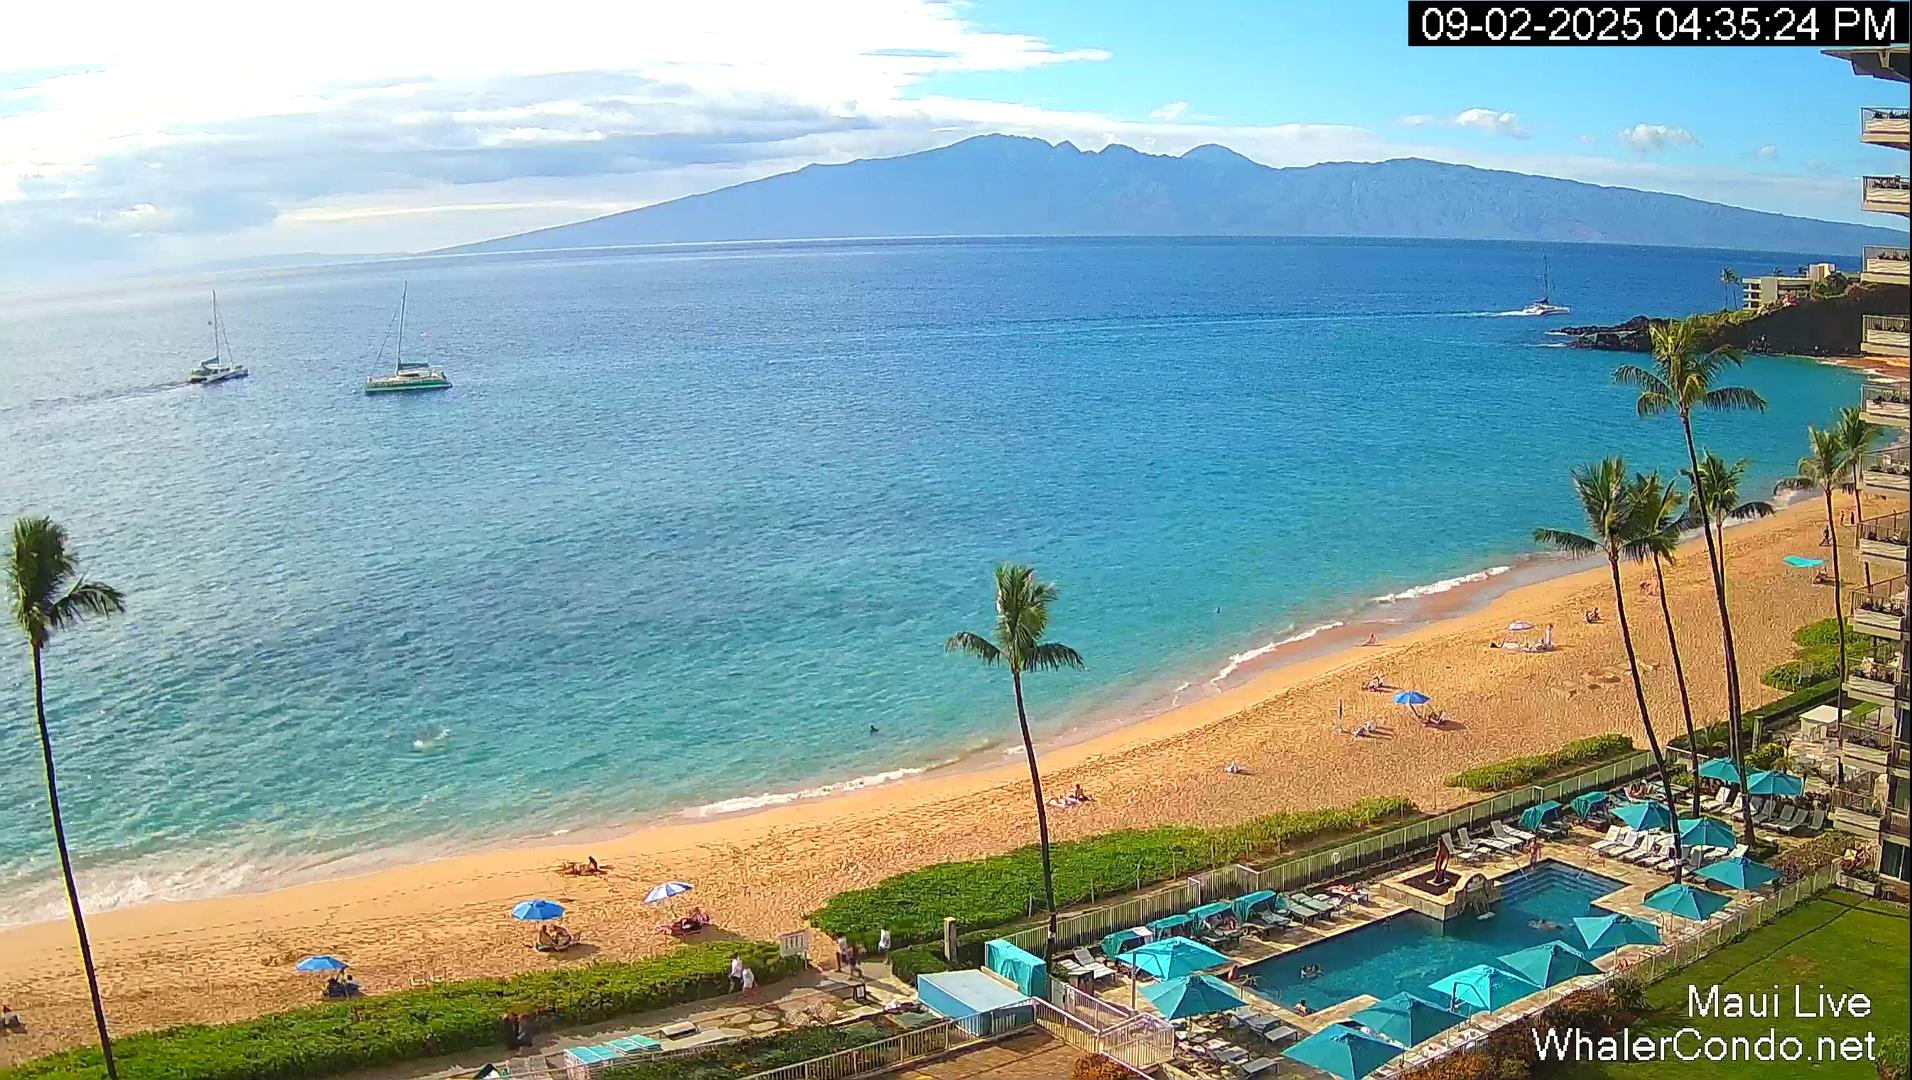boat: (364, 280, 452, 395), (187, 290, 249, 384), (1536, 254, 1571, 316)
person: (847, 939, 867, 981), (728, 952, 743, 994), (879, 924, 894, 964), (344, 974, 364, 1000), (834, 930, 847, 970), (554, 923, 571, 951), (324, 975, 342, 1000), (1528, 838, 1541, 870), (540, 924, 558, 945), (1529, 917, 1558, 929), (584, 854, 600, 875), (1074, 784, 1092, 802), (1817, 565, 1830, 589), (512, 1011, 520, 1048), (742, 967, 754, 990), (1296, 996, 1311, 1014), (1365, 675, 1380, 692), (1229, 964, 1241, 985), (1313, 964, 1325, 983), (1820, 526, 1830, 546), (1364, 632, 1378, 646), (1302, 963, 1311, 984), (1545, 622, 1554, 640), (1640, 578, 1649, 595), (1849, 510, 1858, 526), (869, 724, 879, 738), (1839, 508, 1846, 526), (1592, 607, 1600, 621), (1214, 604, 1224, 614), (1369, 633, 1377, 640)
